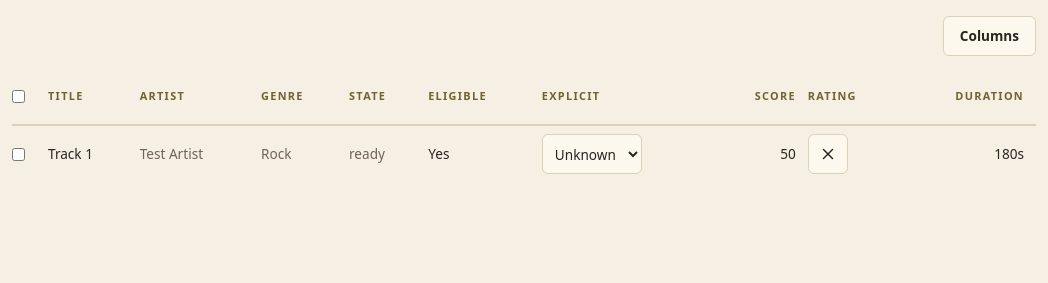
Feature: Year, BPM, and energy in the catalog — on demand › Scenario: columns toggle and persist › shows a toggled-on column immediately (F49.3)
Click the button "Columns". click: (989, 36)
box: [943,16,1036,56]
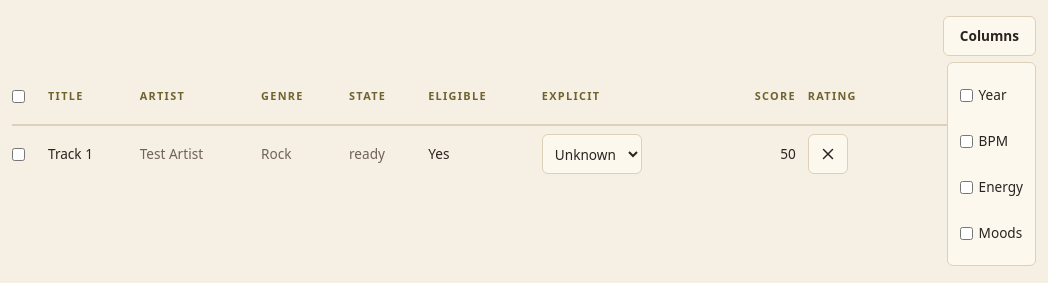
Click the checkbox labelled "Year". click: (966, 95)
box: [960,88,973,102]
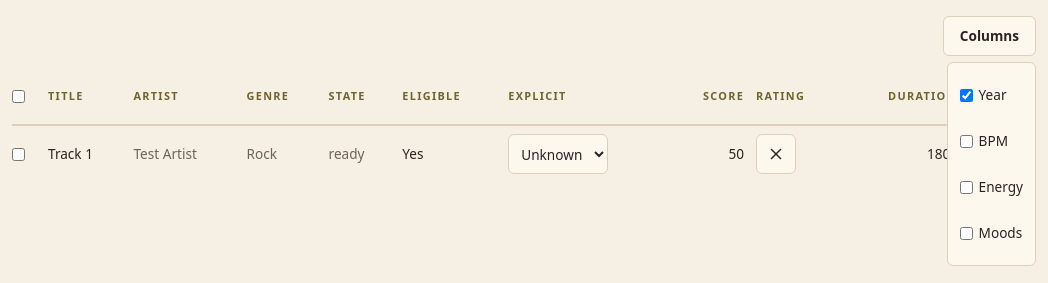
Check: the text "1975" is shown, box [969,125,1036,182]
Check: the column heading "Year" is shown, box [969,68,1036,125]
